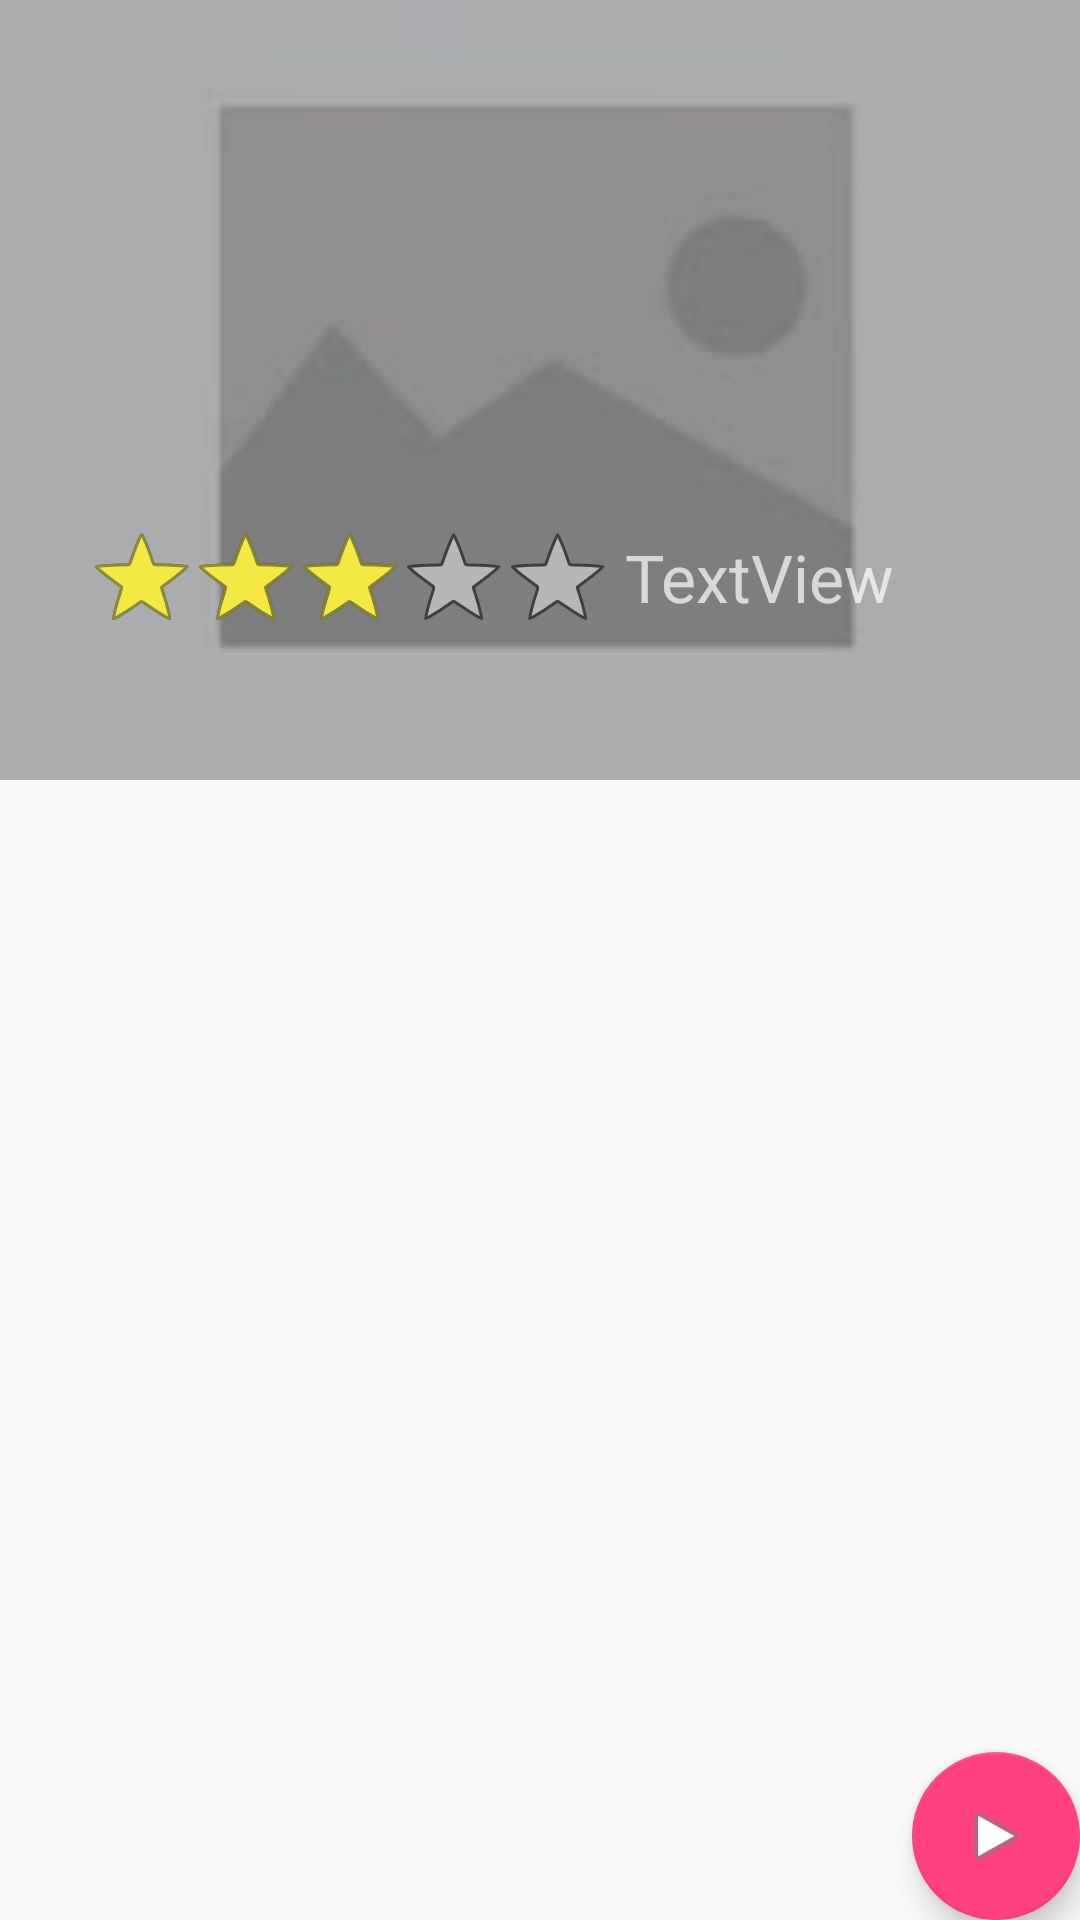

Point at icon controls on the screen. Image size 1080 x 1920, points as (x,y).
play: (996,1836)
